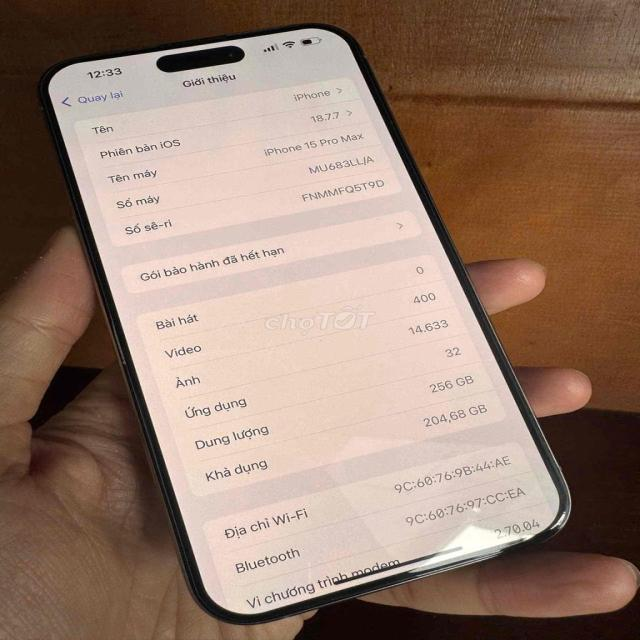gen_15: (40, 18, 587, 628)
